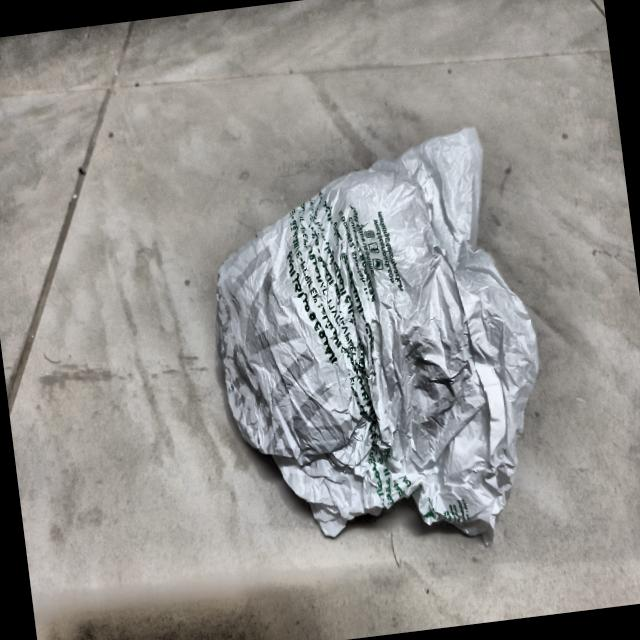plastic bag: (186, 111, 569, 582)
